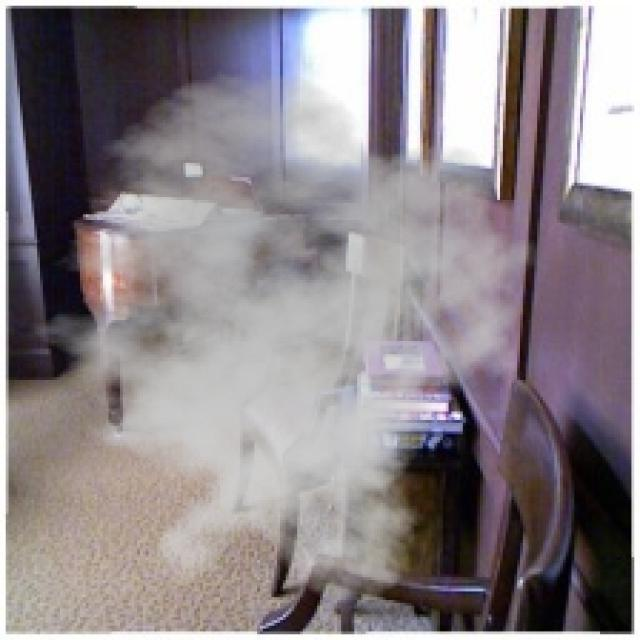smoke: (9, 71, 552, 606)
